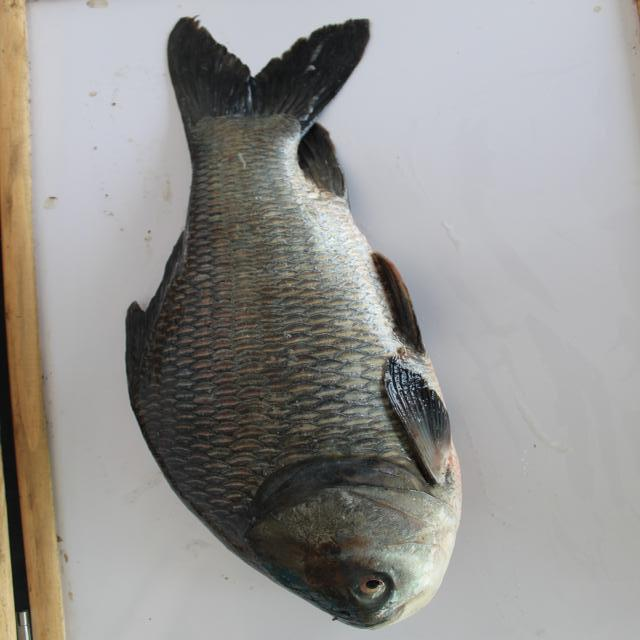Catla: (103, 9, 469, 633)
